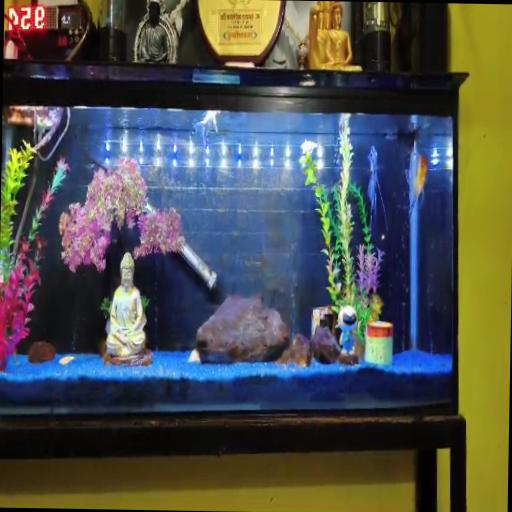Fish: (366, 146, 387, 231), (407, 153, 427, 217), (194, 111, 219, 144), (58, 356, 73, 365)
